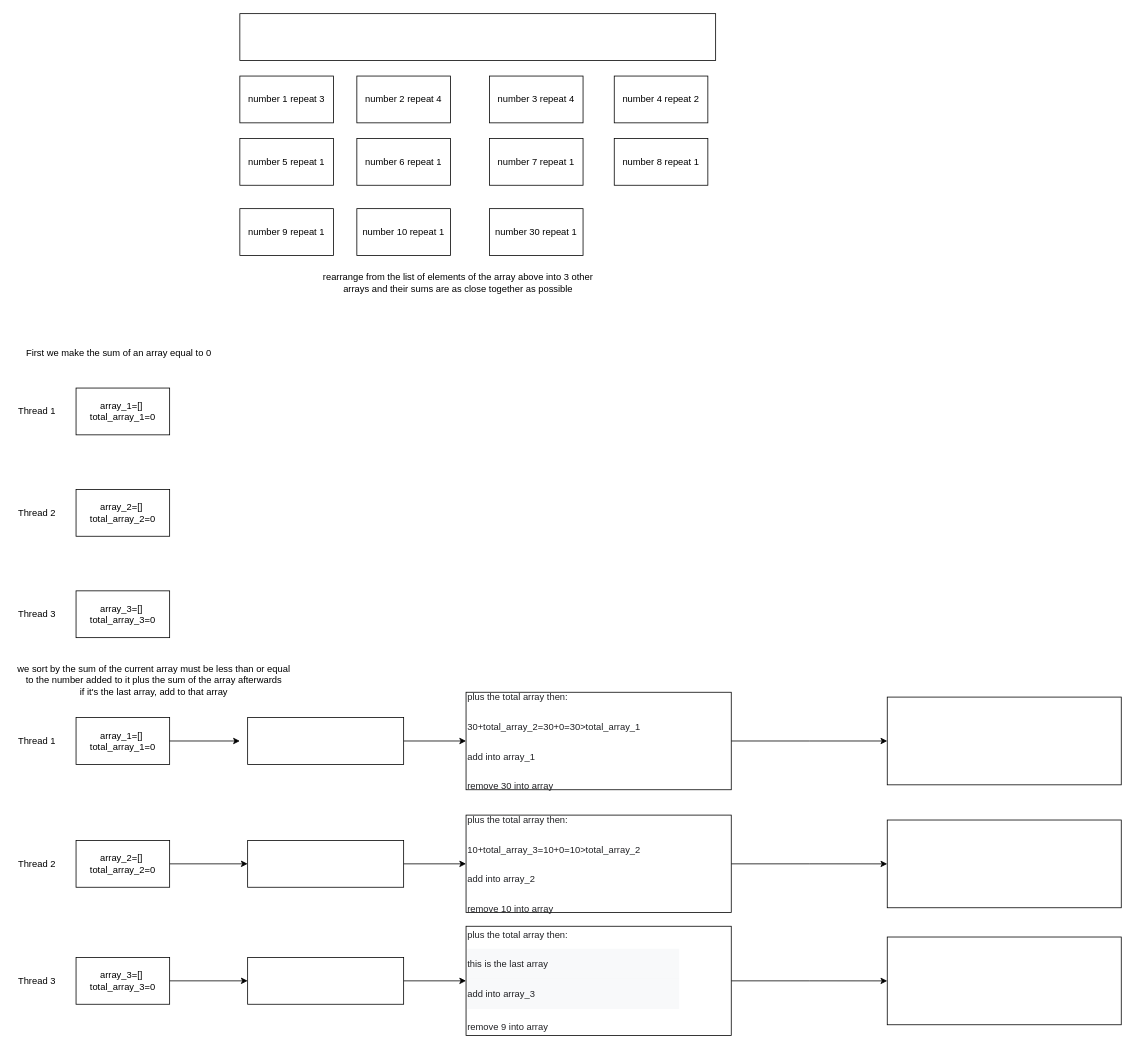
Image size: 1135x1055. Some labels were removed from this diagram. The centre of each missing label's shape, as x and y in pixels:
"array=[1,1,1,2,2,2,2,3,3,3,3,4,4,5,6,7,8,9,10,30]" belongs at (x=477, y=36).
"array=[1,1,1,2,2,2,2,3,3,3,3,4,4,5,6,7,8,9,10] array_1=[30] total_array_1=30" belongs at (x=1003, y=740).
"array=[1,1,1,2,2,2,2,3,3,3,3,4,4,5,6,7,8,9] array_2=[10] total_array_2=10" belongs at (x=1003, y=863).
"array=[1,1,1,2,2,2,2,3,3,3,3,4,4,5,6,7,8] array_3=[9] total_array_3=9" belongs at (x=1003, y=980).
"find the largest element array is 10" belongs at (x=325, y=863).
"find the largest element array is 30" belongs at (x=325, y=740).
"find the largest element array is 9" belongs at (x=325, y=980).
